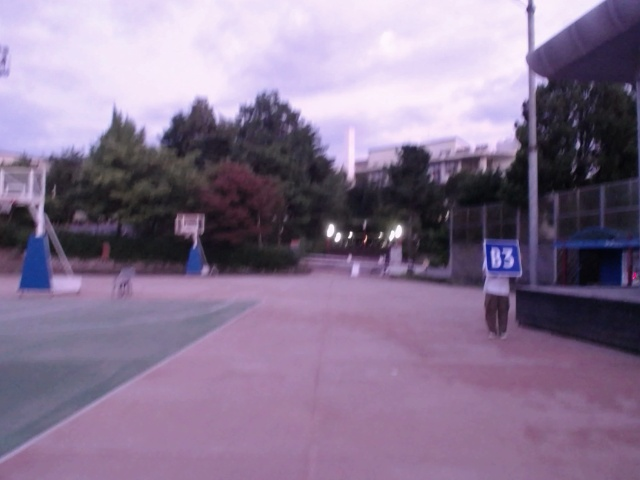delivery_b3: (483, 240, 524, 277)
